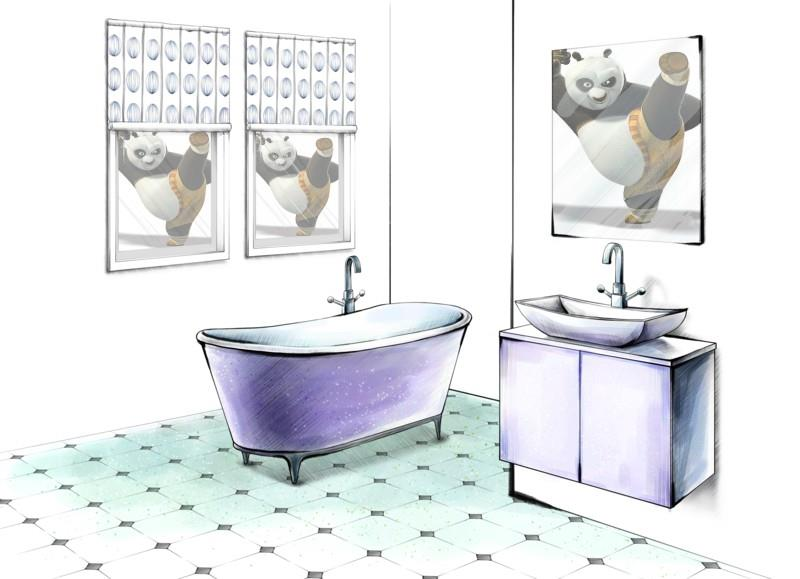Kung_Fu_Panda: (114, 126, 225, 260)
